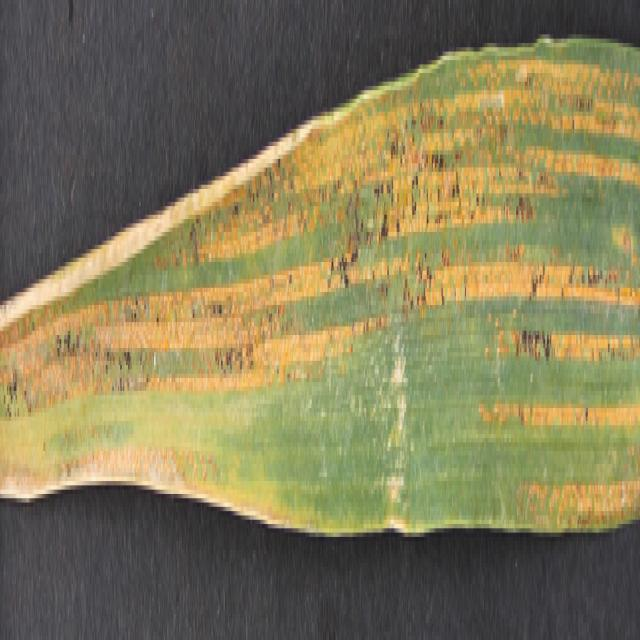leaf rust: (1, 52, 638, 554)
